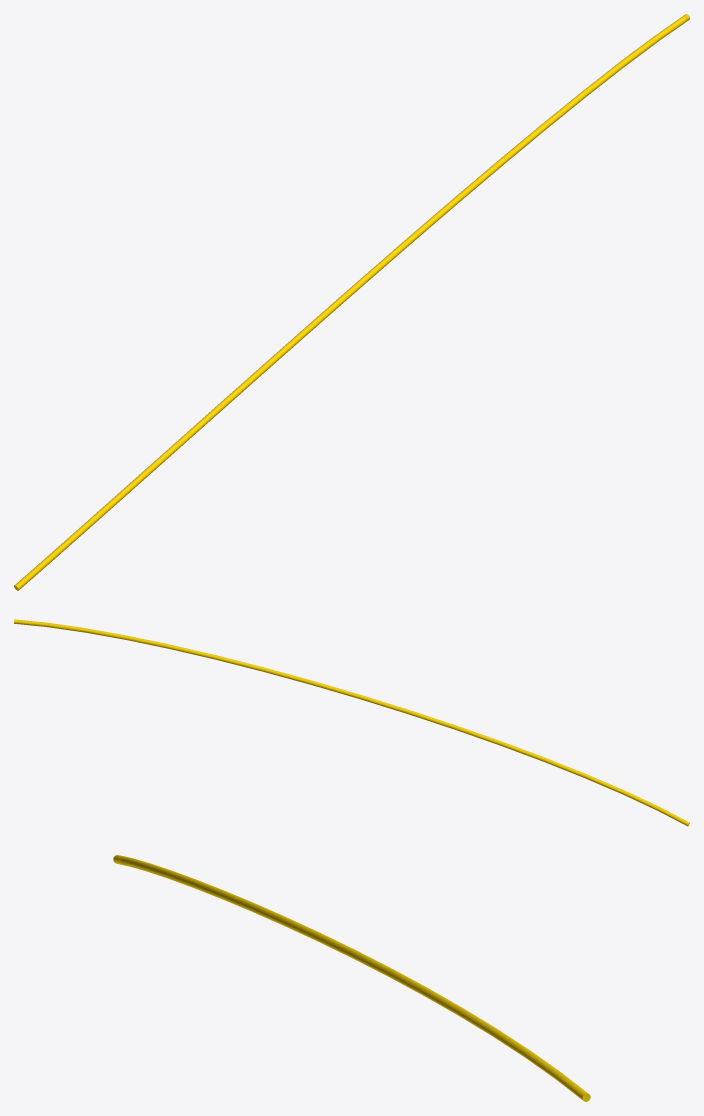
File: Event_421364160_track_43.fbx
The picture shows the model from 3 angles, top to bottom: view 1: azimuth 30°, elevation 25°; view 2: azimuth 150°, elevation 25°; view 3: azimuth 270°, elevation 25°; orthographic projection. The views are drawn at different scales.
Visible parts, largest first — view 1: Model; view 2: Model; view 3: Model.
Part boxes in pixels (x1,y1,x2,y2): Model: (14, 14, 689, 590); Model: (14, 619, 689, 826); Model: (113, 855, 590, 1101).
Size of the model in its own units: 5.81 by 1.56 by 2.15.
